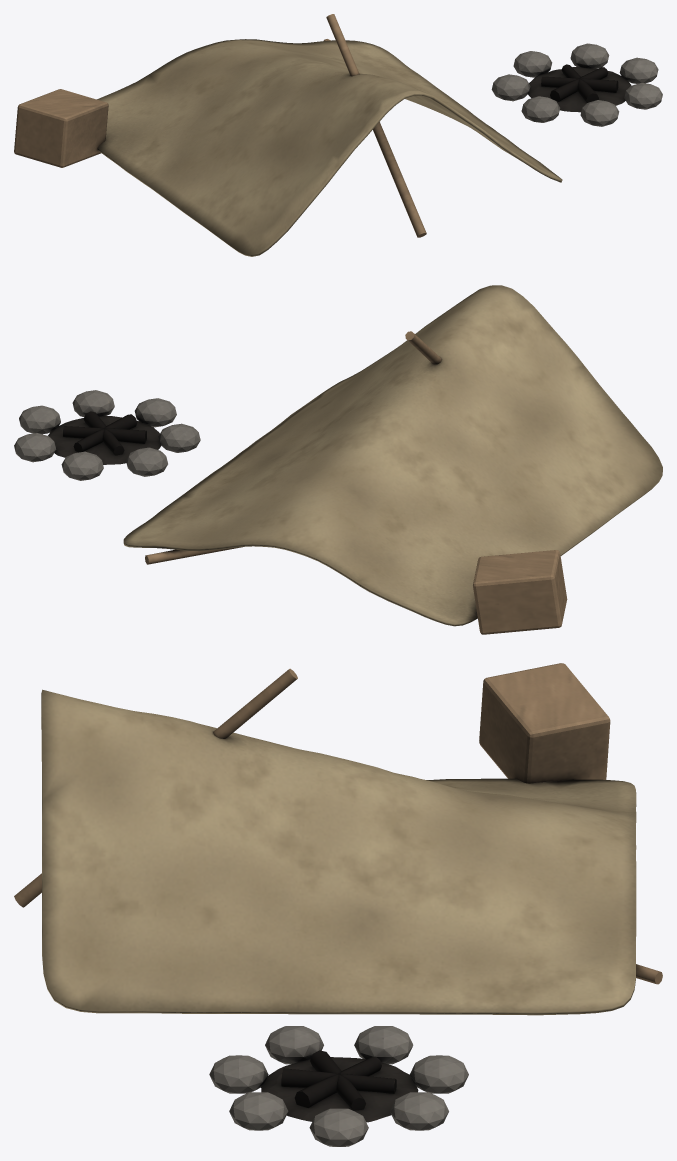
File: cenario_acampamento_abandonado.glb
3 renders of one model, top to bottom at view 1: azimuth 30°, elevation 25°; view 2: azimuth 150°, elevation 25°; view 3: azimuth 270°, elevation 25°, orthographic. The views are drawn at different scales.
Visible parts, largest first — view 1: cenario_acampamento_abandonado_tronco; view 2: cenario_acampamento_abandonado_tronco; view 3: cenario_acampamento_abandonado_tronco.
Part boxes in pixels (<box>): cenario_acampamento_abandonado_tronco: <box>14,14,662,256</box>; cenario_acampamento_abandonado_tronco: <box>14,285,662,634</box>; cenario_acampamento_abandonado_tronco: <box>14,663,662,1146</box>.
Bounding box in the file's own units: 4.29 × 1.16 × 2.84.
Materials: 1 (1 with a texture image).
